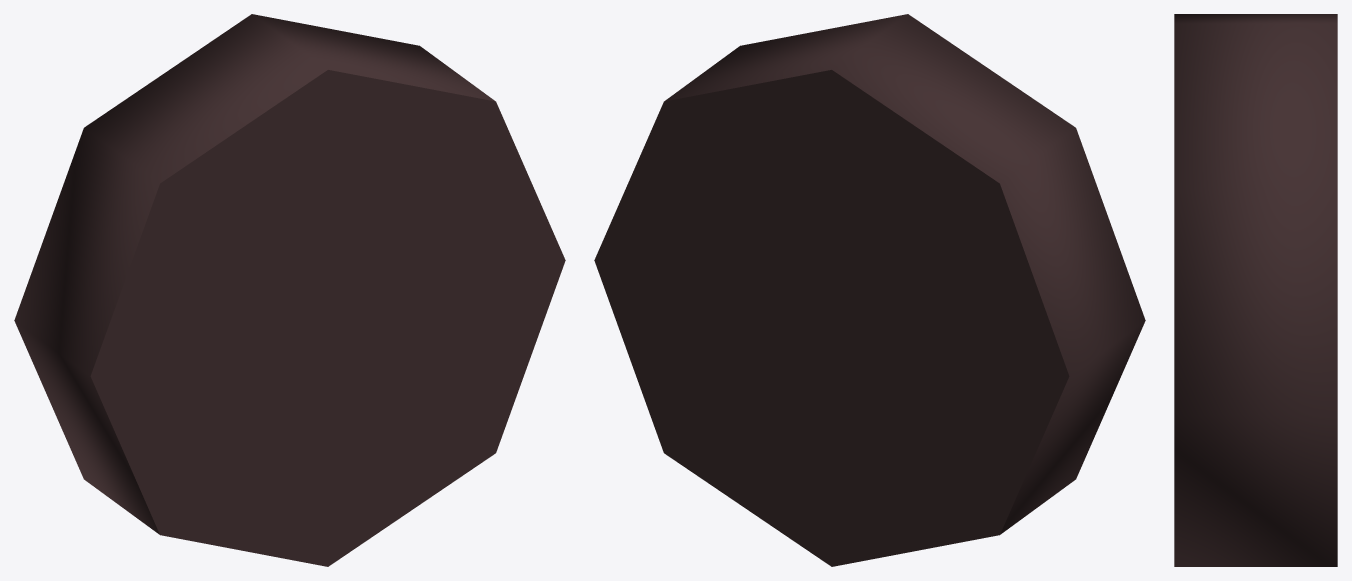
The model's file is SW_ENV_PipeCollarSmall.fbx.
3 renders of one model, left to right at view 1: azimuth 30°, elevation 25°; view 2: azimuth 150°, elevation 25°; view 3: azimuth 270°, elevation 25°, orthographic. The views are drawn at different scales.
Parts seen in each view (by area): view 1: SW_ENV_PipeCollarSmall; view 2: SW_ENV_PipeCollarSmall; view 3: SW_ENV_PipeCollarSmall.
Part boxes in pixels (left/top/right/bottom): SW_ENV_PipeCollarSmall: left=14, top=14, right=565, bottom=566; SW_ENV_PipeCollarSmall: left=594, top=14, right=1145, bottom=566; SW_ENV_PipeCollarSmall: left=1174, top=14, right=1337, bottom=566.
Size of the model in its own units: 0.18 by 0.18 by 0.05.
